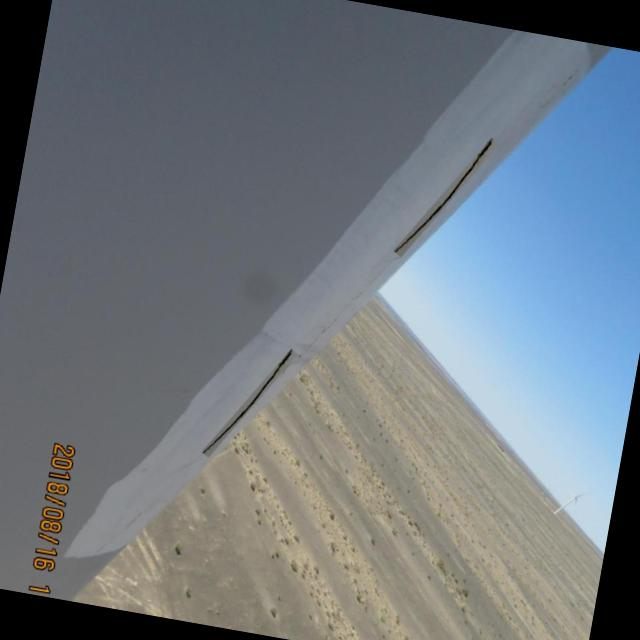crack: (390, 127, 489, 266), (208, 334, 292, 466)
